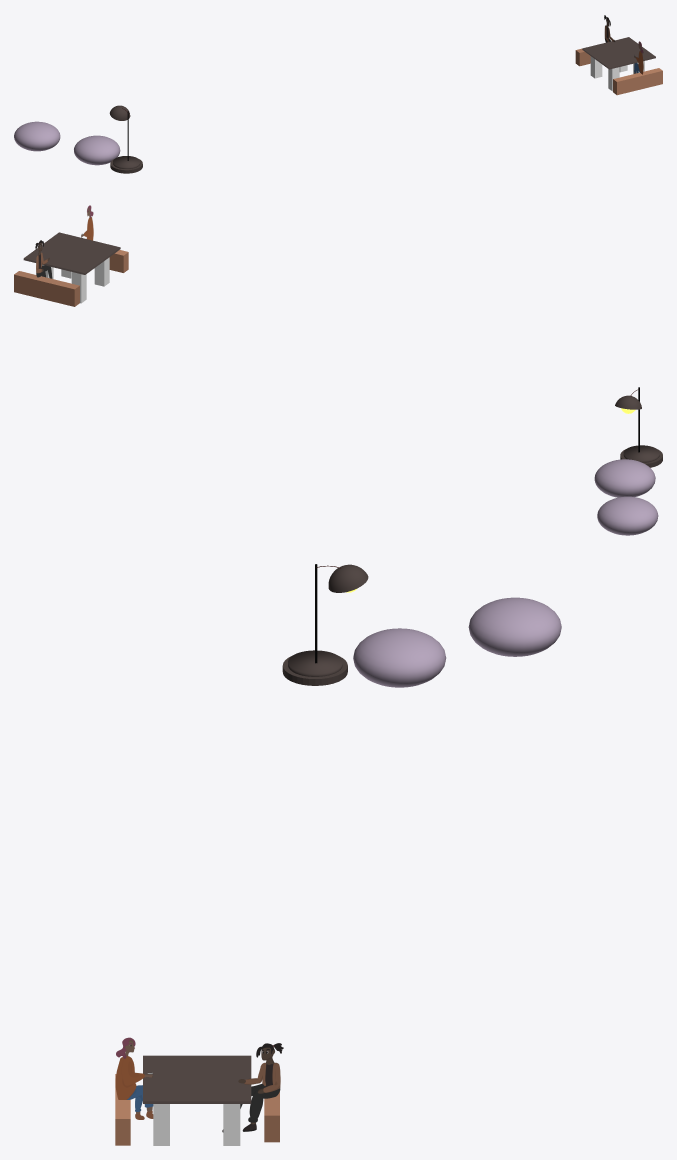
The model's file is coffee-interaction copy.glb.
3 views of the same model, one above another, from view 1: azimuth 30°, elevation 25°; view 2: azimuth 150°, elevation 25°; view 3: azimuth 270°, elevation 25° (orthographic). The views are drawn at different scales.
Parts seen in each view (by area): view 1: Cube, Beanbag Area Bag Two, Beanbag Area Bag One, Cube.002, Beanbag Area Lamp; view 2: Cube, Beanbag Area Bag Two, Beanbag Area Bag One, Cube.001, Beanbag Area Lamp; view 3: Cube, Beanbag Area Bag One, Beanbag Area Bag Two, Beanbag Area Lamp, coffee-interaction-one-guy, coffee-interaction-one-girl.
Part boxes in pixels (left/top/right/bottom): Cube: left=582, top=37, right=655, bottom=69; Beanbag Area Bag Two: left=14, top=121, right=60, bottom=151; Beanbag Area Bag One: left=74, top=135, right=120, bottom=165; Cube.002: left=613, top=68, right=662, bottom=95; Beanbag Area Lamp: left=109, top=105, right=142, bottom=173; Cube: left=23, top=232, right=120, bottom=274; Beanbag Area Bag Two: left=597, top=496, right=658, bottom=535; Beanbag Area Bag One: left=594, top=459, right=655, bottom=497; Cube.001: left=14, top=271, right=79, bottom=306; Beanbag Area Lamp: left=615, top=387, right=662, bottom=467; Cube: left=143, top=1055, right=251, bottom=1103; Beanbag Area Bag One: left=353, top=628, right=446, bottom=687; Beanbag Area Bag Two: left=468, top=597, right=561, bottom=656; Beanbag Area Lamp: left=282, top=564, right=368, bottom=685; coffee-interaction-one-guy: left=222, top=1043, right=283, bottom=1132; coffee-interaction-one-girl: left=115, top=1037, right=153, bottom=1119.
Bounding box in the file's own units: 11.82 × 1.3 × 4.19.
Materials: 14 (3 with a texture image).
